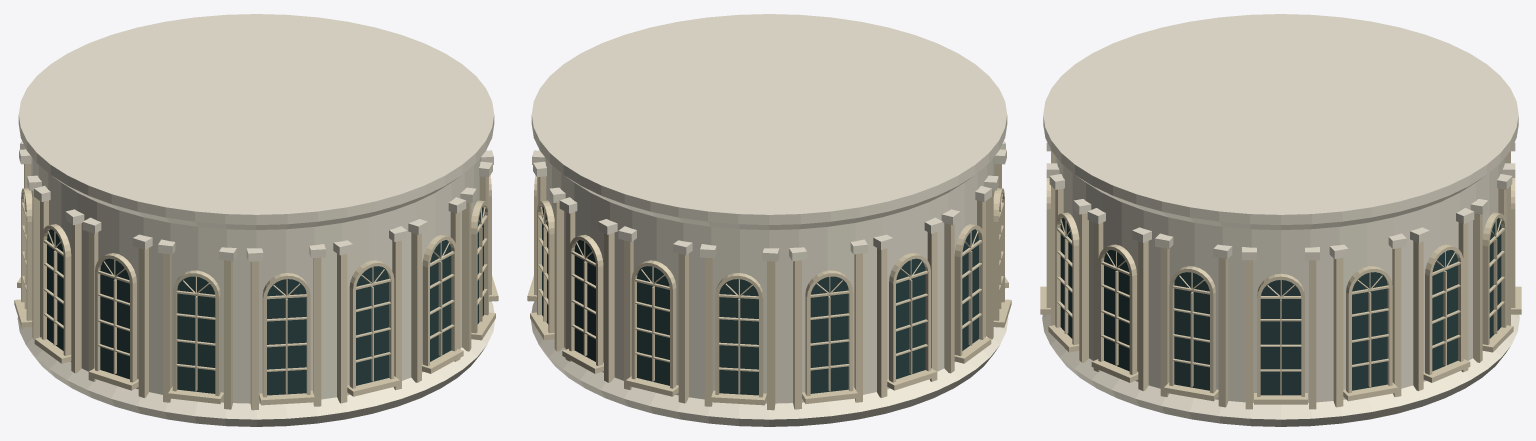
File: KOL_T1_GPO__05_Dome_Drum.fbx
3 renders of one model, left to right at view 1: azimuth 30°, elevation 25°; view 2: azimuth 150°, elevation 25°; view 3: azimuth 270°, elevation 25°, orthographic.
Visible parts, largest first — view 1: KOL_T1_GPO__05_Dome_Drum__KOL_T1_HeritageWhite, KOL_T1_GPO__05_Dome_Drum__KOL_T1_HeritageCream, KOL_T1_GPO__05_Dome_Drum__KOL_T1_HeritageGlass; view 2: KOL_T1_GPO__05_Dome_Drum__KOL_T1_HeritageWhite, KOL_T1_GPO__05_Dome_Drum__KOL_T1_HeritageCream, KOL_T1_GPO__05_Dome_Drum__KOL_T1_HeritageGlass; view 3: KOL_T1_GPO__05_Dome_Drum__KOL_T1_HeritageWhite, KOL_T1_GPO__05_Dome_Drum__KOL_T1_HeritageCream, KOL_T1_GPO__05_Dome_Drum__KOL_T1_HeritageGlass.
Boxes of the visible parts, x1,y1,x2,y2 form: KOL_T1_GPO__05_Dome_Drum__KOL_T1_HeritageWhite: (17,14,495,426); KOL_T1_GPO__05_Dome_Drum__KOL_T1_HeritageCream: (14,163,498,410); KOL_T1_GPO__05_Dome_Drum__KOL_T1_HeritageGlass: (47,207,483,395); KOL_T1_GPO__05_Dome_Drum__KOL_T1_HeritageWhite: (530,14,1008,426); KOL_T1_GPO__05_Dome_Drum__KOL_T1_HeritageCream: (527,163,1011,410); KOL_T1_GPO__05_Dome_Drum__KOL_T1_HeritageGlass: (542,207,978,395); KOL_T1_GPO__05_Dome_Drum__KOL_T1_HeritageWhite: (1042,14,1519,426); KOL_T1_GPO__05_Dome_Drum__KOL_T1_HeritageCream: (1040,151,1521,409); KOL_T1_GPO__05_Dome_Drum__KOL_T1_HeritageGlass: (1060,218,1501,395).
Size of the model in its own units: 42.7 by 21 by 42.7.
